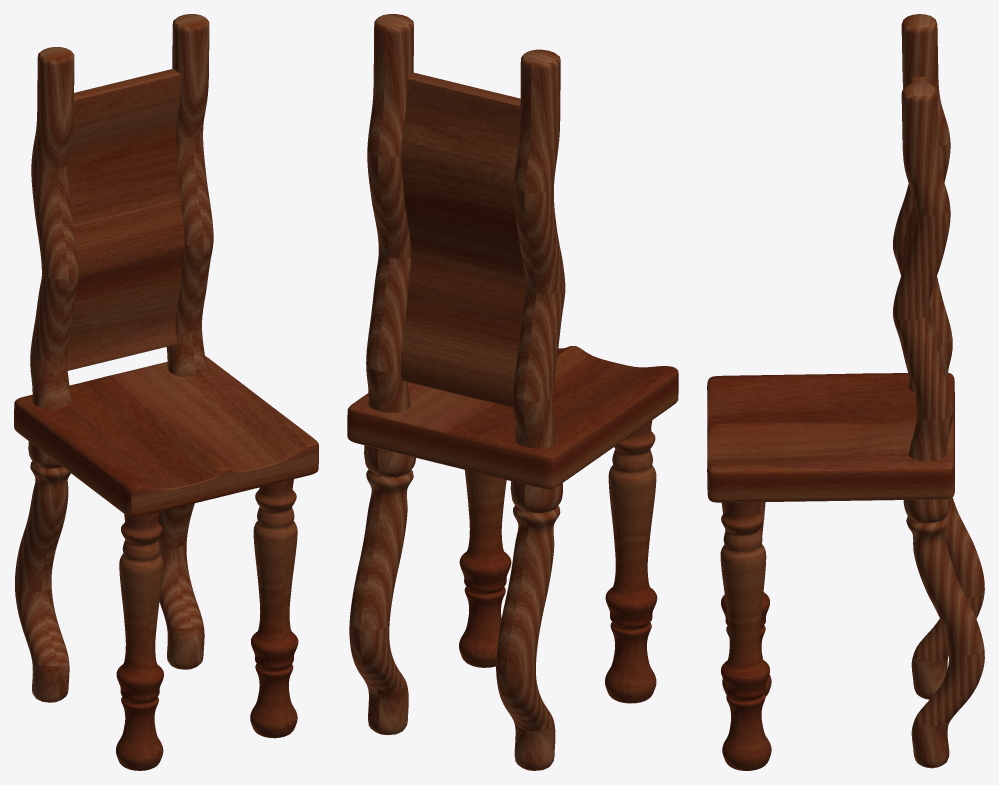
The picture shows the model from 3 angles, left to right: view 1: azimuth 30°, elevation 25°; view 2: azimuth 150°, elevation 25°; view 3: azimuth 270°, elevation 25°; orthographic projection. The views are drawn at different scales.
Visible parts, largest first — view 1: geometry_0; view 2: geometry_0; view 3: geometry_0.
Boxes of the visible parts, x1=… form: geometry_0: x1=14, y1=14, x2=318, y2=770; geometry_0: x1=347, y1=14, x2=678, y2=770; geometry_0: x1=707, y1=14, x2=984, y2=770.
Size of the model in its own units: 0.271 by 0.88 by 0.3269.
1 material, 1 textured.
